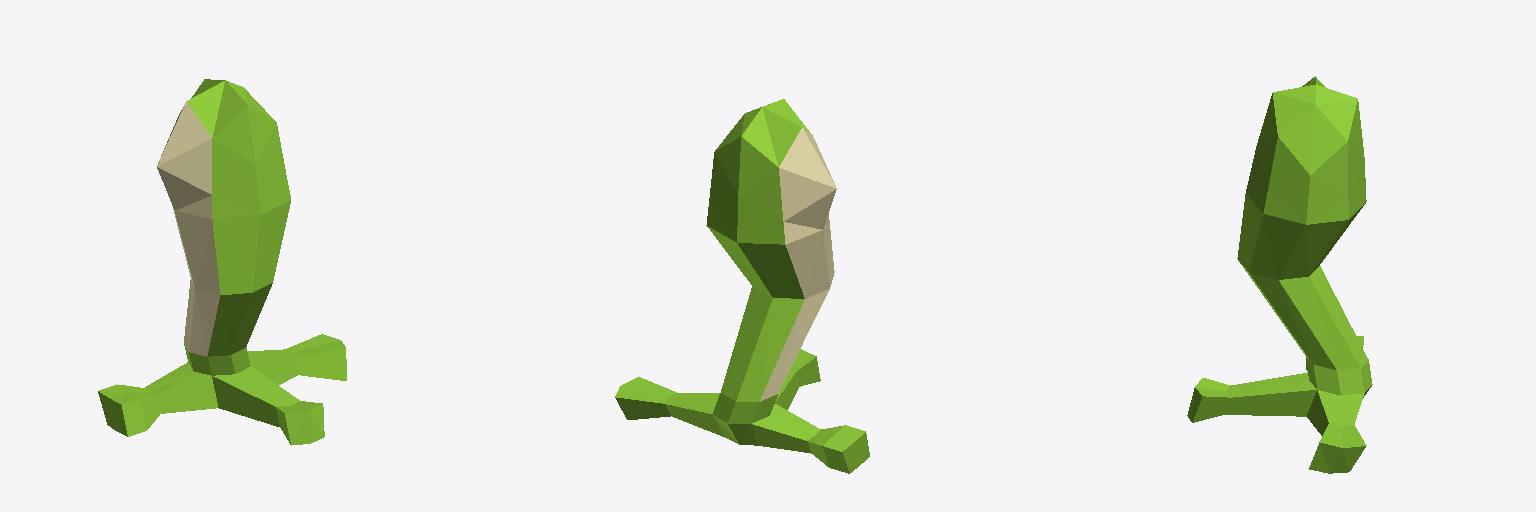
3 renders of one model, left to right at view 1: azimuth 30°, elevation 25°; view 2: azimuth 150°, elevation 25°; view 3: azimuth 270°, elevation 25°, orthographic.
Parts seen in each view (by area): view 1: leftfoot; view 2: leftfoot; view 3: leftfoot.
Boxes of the visible parts, x1,y1,x2,y2 form: leftfoot: [98, 79, 346, 445]; leftfoot: [615, 99, 869, 473]; leftfoot: [1187, 76, 1372, 473].
Size of the model in its own units: 0.5535 by 0.7522 by 0.3816.
1 materials, 1 textured.